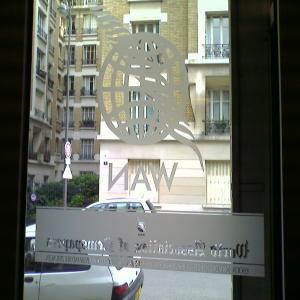Vehicle-registration-plate: (135, 286, 143, 300)
